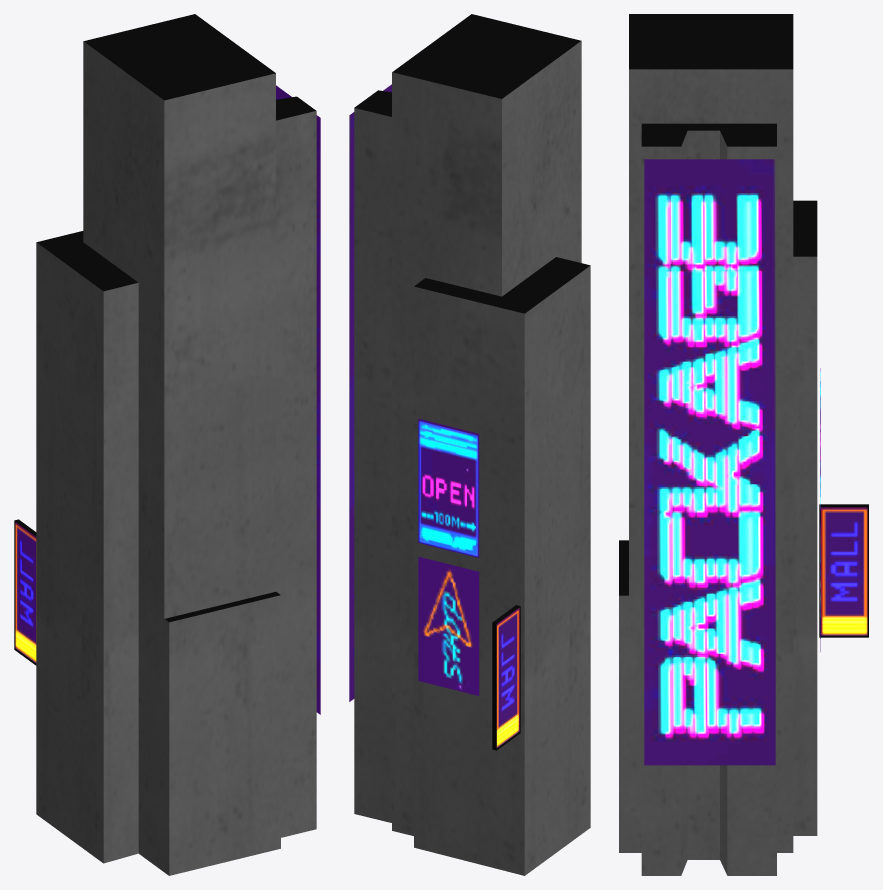
File: Building 1.fbx
3 views of the same model, side by side, from view 1: azimuth 30°, elevation 25°; view 2: azimuth 150°, elevation 25°; view 3: azimuth 270°, elevation 25° (orthographic). The views are drawn at different scales.
Parts seen in each view (by area): view 1: Cube.001; view 2: Cube.001; view 3: Cube.001.
Part boxes in pixels (box(x1,y1,x2,y2)): Cube.001: box(14, 14, 320, 875); Cube.001: box(349, 14, 590, 875); Cube.001: box(619, 14, 868, 875).
Bounding box in the file's own units: 944 × 3504 × 1010.
